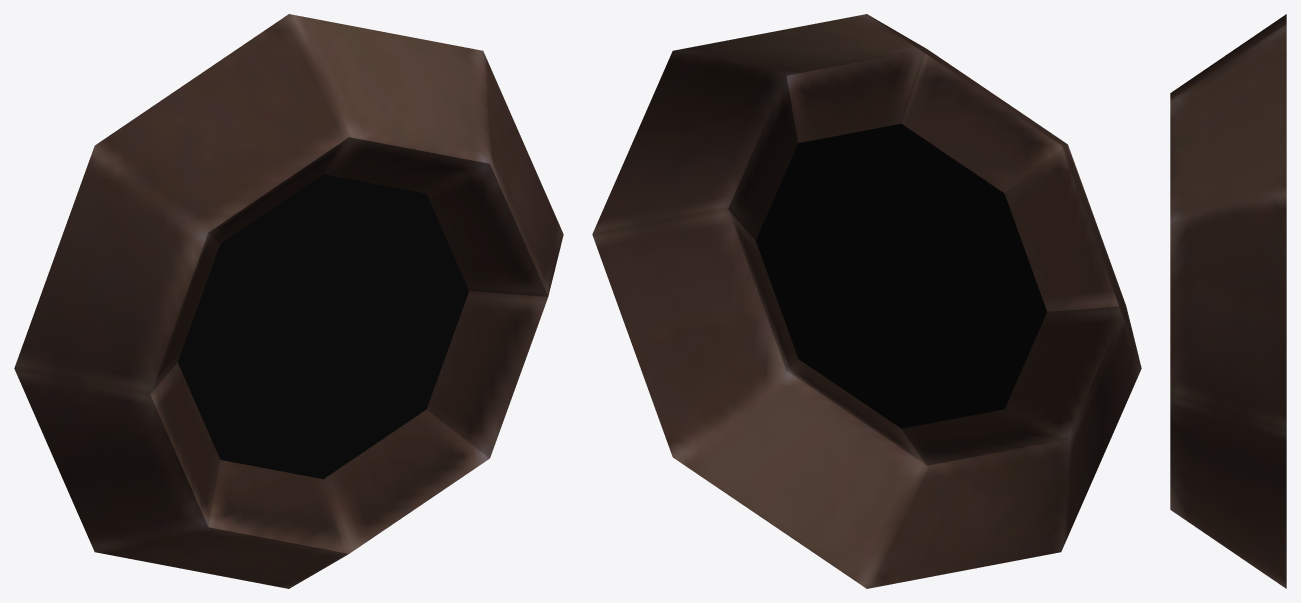
File: sn_jixie_jiguanyan_001.FBX
The picture shows the model from 3 angles, left to right: view 1: azimuth 30°, elevation 25°; view 2: azimuth 150°, elevation 25°; view 3: azimuth 270°, elevation 25°; orthographic projection. The views are drawn at different scales.
Parts seen in each view (by area): view 1: sn_jixie_jiguanyan_001; view 2: sn_jixie_jiguanyan_001; view 3: sn_jixie_jiguanyan_001.
Boxes of the visible parts, x1=… form: sn_jixie_jiguanyan_001: x1=14, y1=14, x2=563, y2=588; sn_jixie_jiguanyan_001: x1=592, y1=14, x2=1141, y2=588; sn_jixie_jiguanyan_001: x1=1170, y1=14, x2=1286, y2=588.
Size of the model in its own units: 2.16 by 0.4097 by 2.16.
